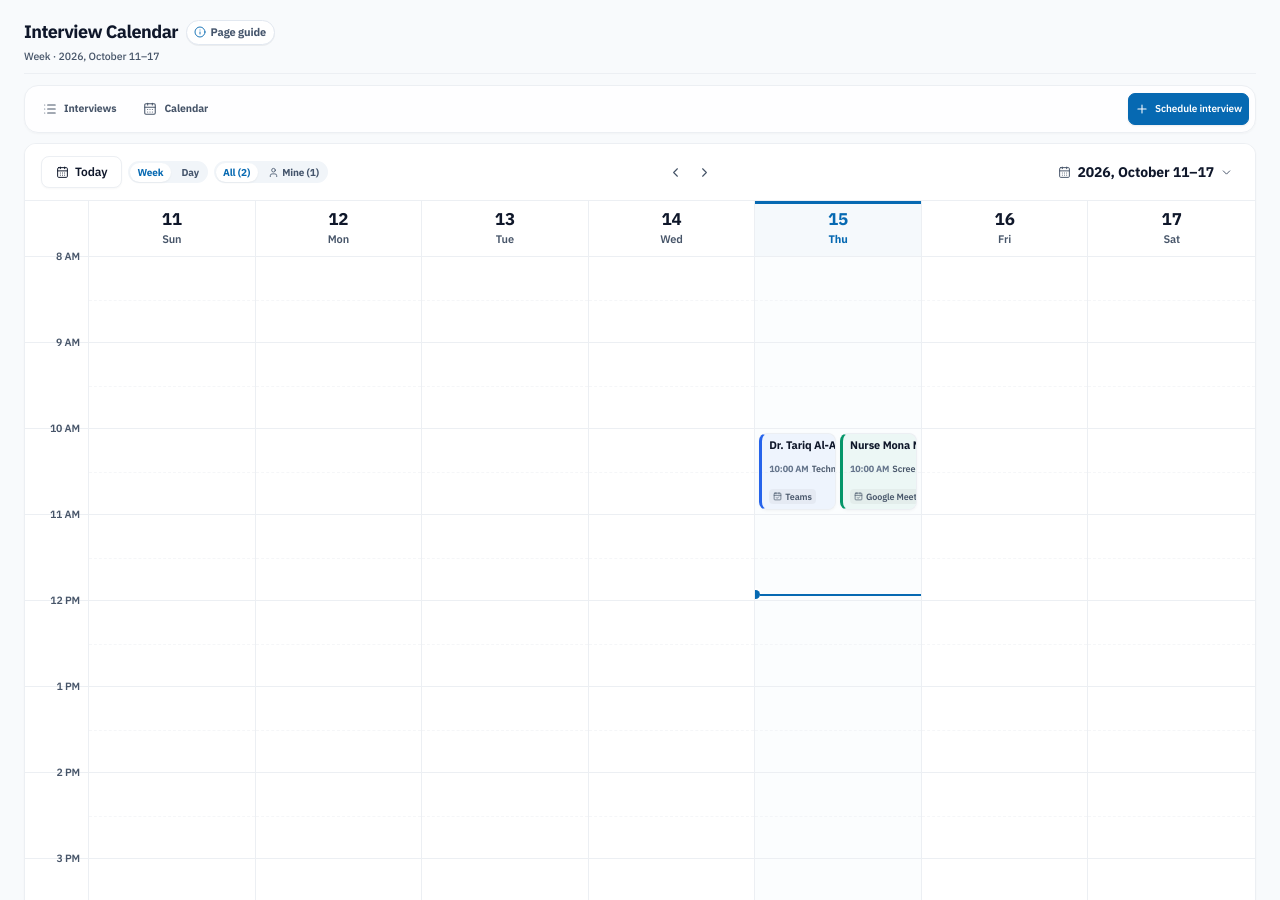
Test: InterviewCalendarPage › opens Quick-View Event Modal when an interview card is clicked
The width and height of the screenshot is (1280, 900).
Check: the text "Dr. Tariq Al-Amri" is shown, box [769,439,836,453]
Click the button "Dr. Tariq Al-Amri". click: (798, 472)
box: [759,433,836,510]
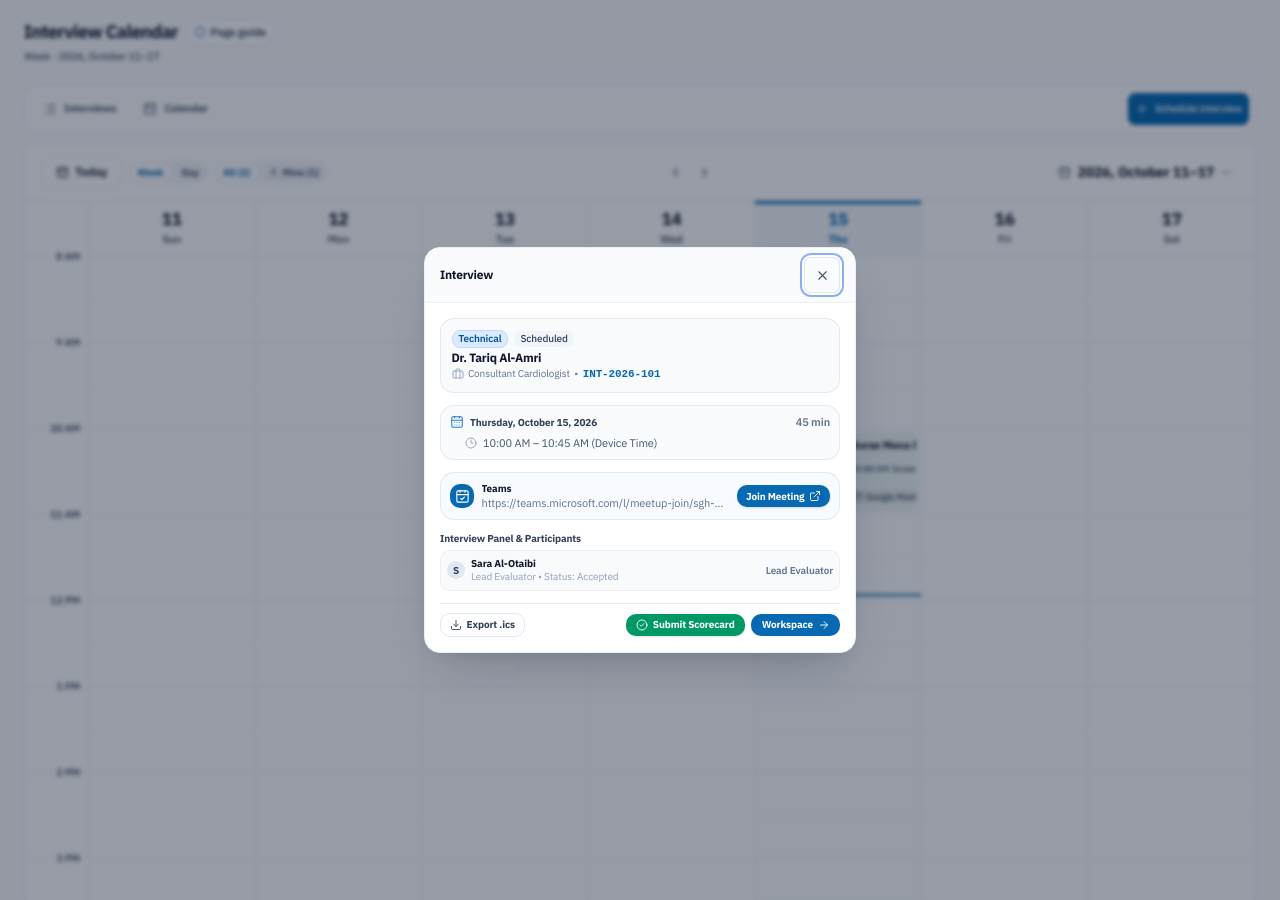
Check: the heading "Interview" is shown, box [440,266,493,284]
Check: the text "Consultant Cardiologist" is shown, box [468,367,570,381]
Check: the text "INT-2026-101" is shown, box [583,367,660,381]
